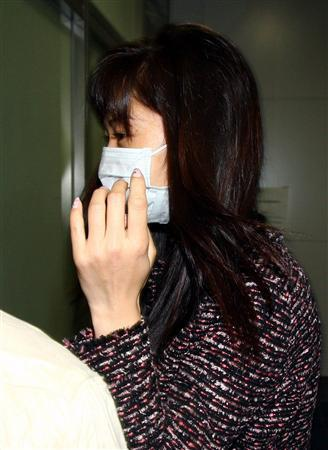OK: (91, 109, 198, 216)
